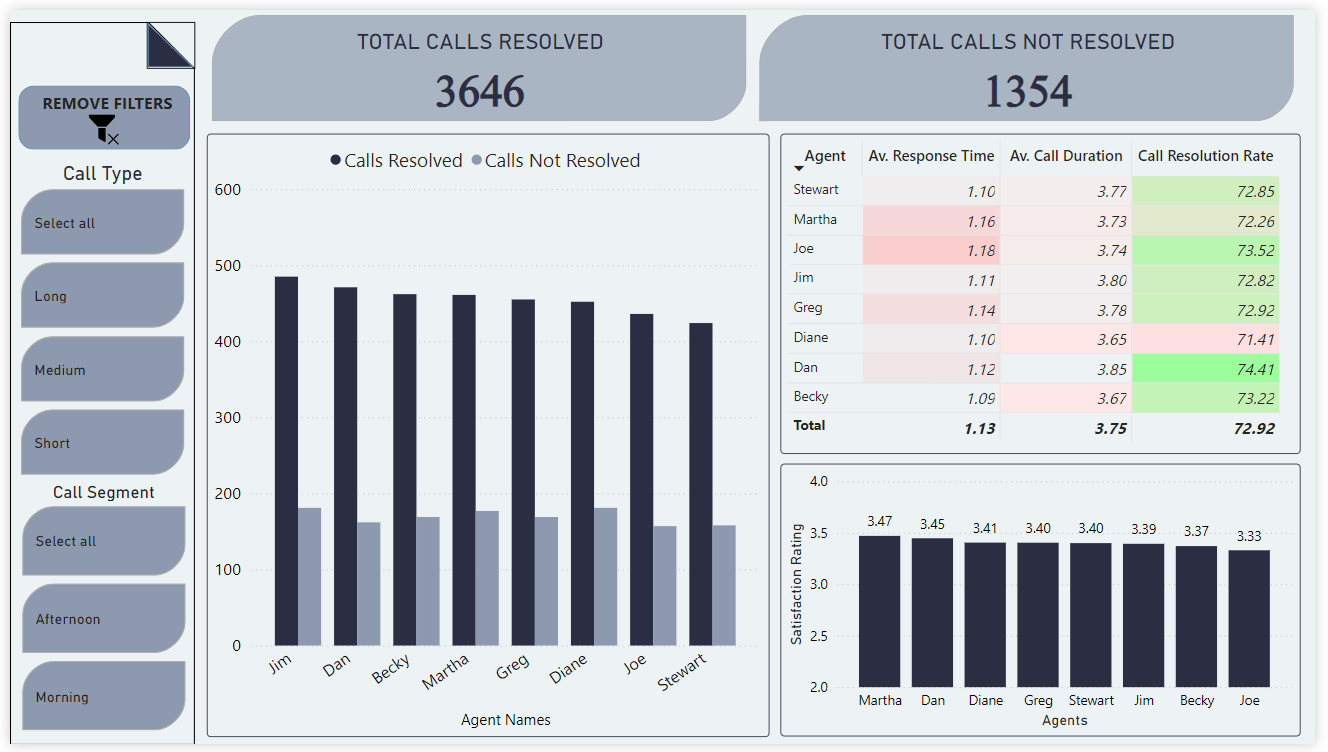

The page's visual inventory and layout, read from the dashboard file:
{"tool":"powerbi","page":{"name":"Agent Performance","canvas":[1280,720],"ordinal":1},"visuals":[{"type":"shape","box":[0,11.4,181.3,708.7],"z":0},{"type":"shape","box":[133.9,11.4,47.4,45.7],"z":1000},{"type":"cardVisual","fields":{"Data":["Call Center Data.Calls Resolved","Call Center Data.Calls Not Resolved"]},"box":[192.7,0,1072.9,114.3],"z":2000},{"type":"clusteredColumnChart","fields":{"Category":["Call Center Data.Agent"],"Y":["Call Center Data.Calls Resolved","Call Center Data.Calls Not Resolved"]},"box":[192.5,121.2,551.2,591.2],"z":3000},{"type":"advancedSlicerVisual","fields":{"Values":["Call Center Data.Call Segment"]},"box":[5.7,413.1,169.6,307.3],"z":4000},{"type":"advancedSlicerVisual","fields":{"Values":["Call Center Data.Call Type"]},"box":[5.7,68.3,169.6,335.7],"z":5000},{"type":"pivotTable","fields":{"Rows":["Call Center Data.Agent"],"Values":["Call Center Data.Average Response Time","Avg(Call Center Data.Call Duration)"]},"box":[755,121.2,510,313.8],"z":6000},{"type":"clusteredColumnChart","fields":{"Category":["Call Center Data.Agent"],"Y":["Avg(Call Center Data.Satisfaction rating)"]},"box":[755,445,510,267.5],"z":7000}]}

Visuals, with their boxes in screenshot pixels (x1, y1, x2, y2), scaled from the page's 1280x720 canvas onto the 1328x752 screenshot:
shape: box=[0, 12, 188, 751]
shape: box=[139, 12, 188, 60]
cardVisual - Call Center Data.Calls Resolved x Call Center Data.Calls Not Resolved: box=[200, 0, 1313, 119]
clusteredColumnChart - Call Center Data.Agent x Call Center Data.Calls Resolved: box=[200, 127, 772, 744]
advancedSlicerVisual - Call Center Data.Call Segment: box=[6, 431, 182, 751]
advancedSlicerVisual - Call Center Data.Call Type: box=[6, 71, 182, 422]
pivotTable - Call Center Data.Agent x Call Center Data.Average Response Time: box=[783, 127, 1312, 454]
clusteredColumnChart - Call Center Data.Agent x Avg(Call Center Data.Satisfaction rating): box=[783, 465, 1312, 744]
